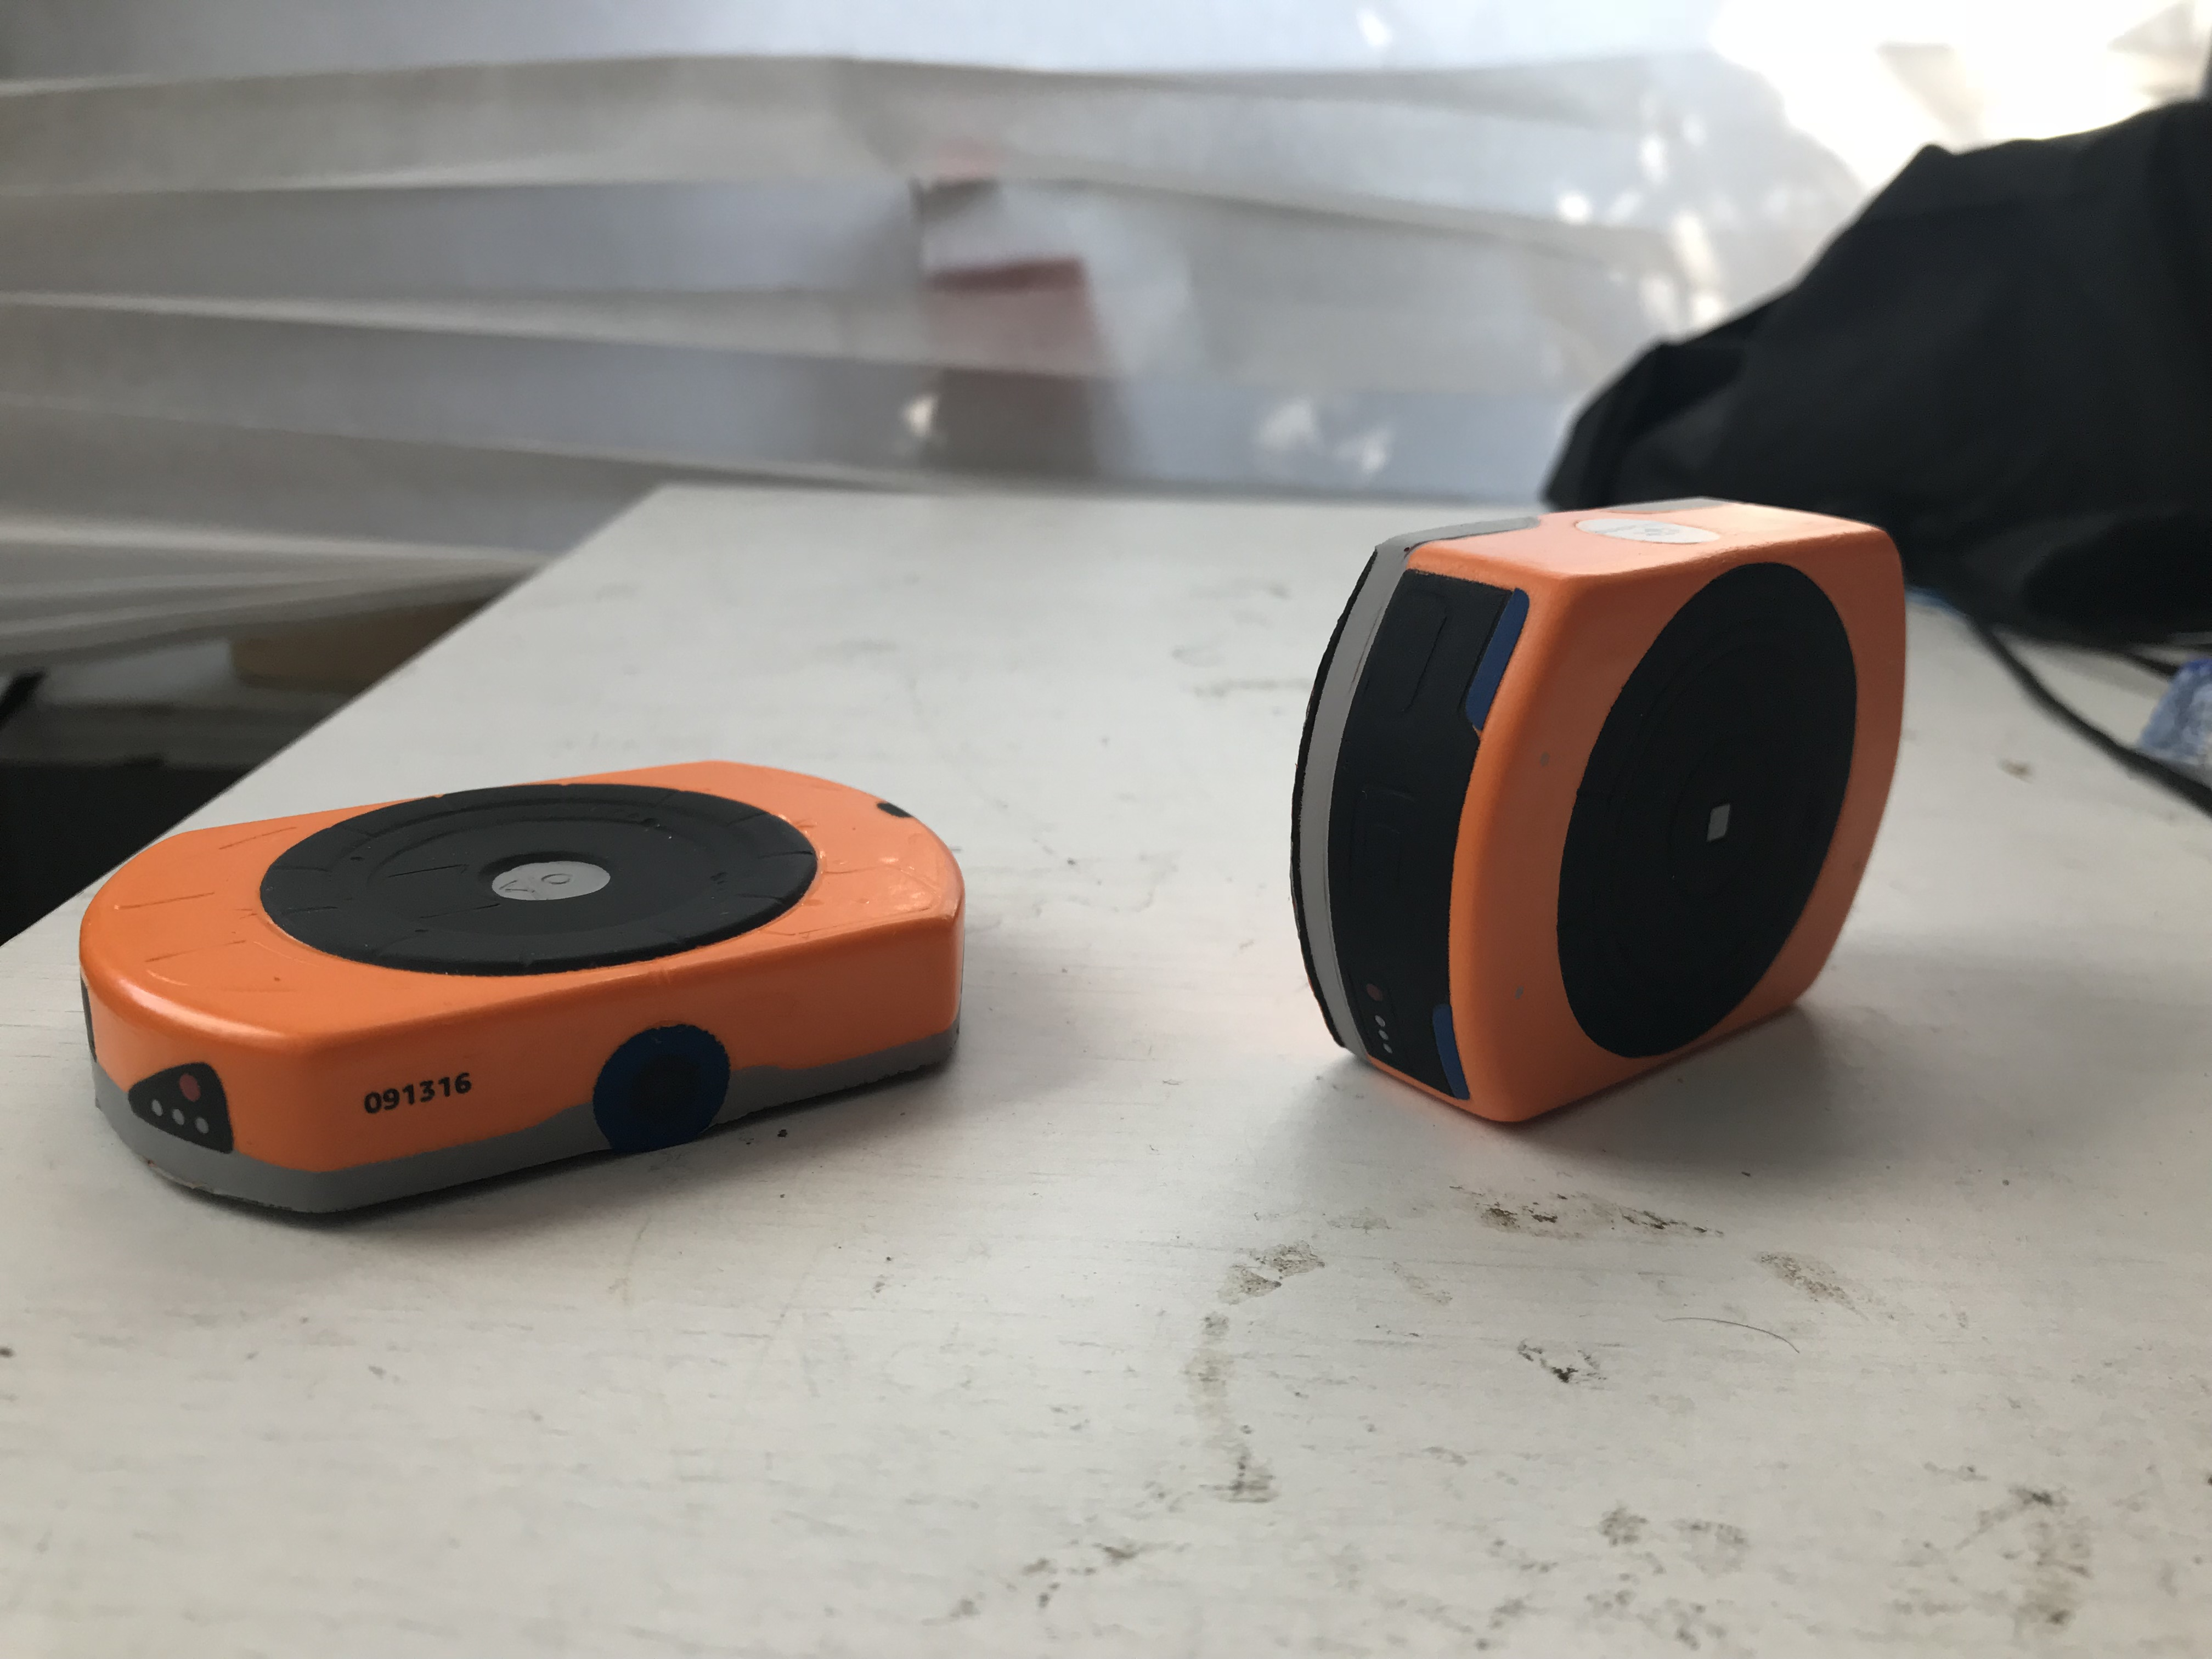amazon_bot: (1268, 465, 1972, 1173), (57, 755, 1033, 1227)
